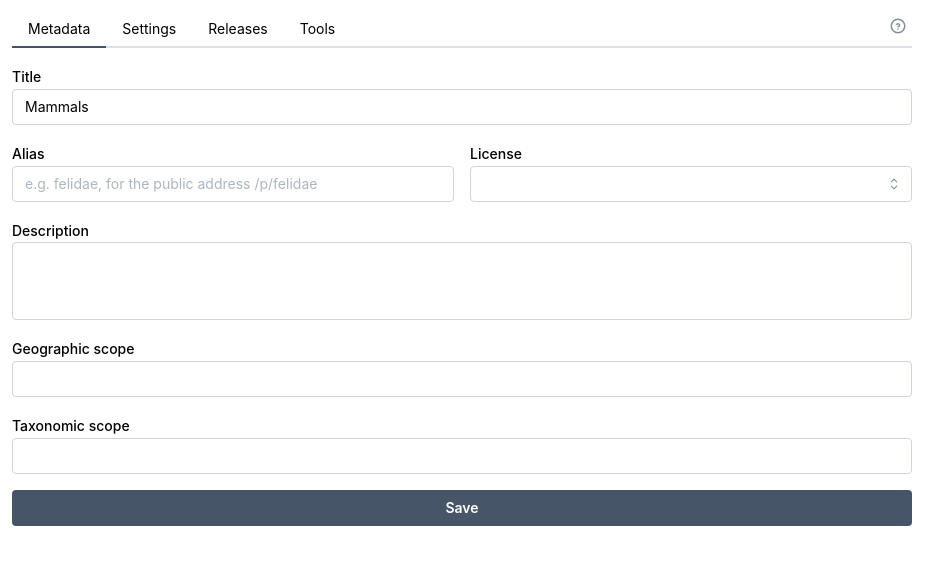
Test: a DONE latest run renders its summary on mount without the user clicking
Expected: the field labelled "Title" holds "Mammals", [12,89,912,125]
Click the tab "Tools" at (317, 30), box [284,12,351,48]
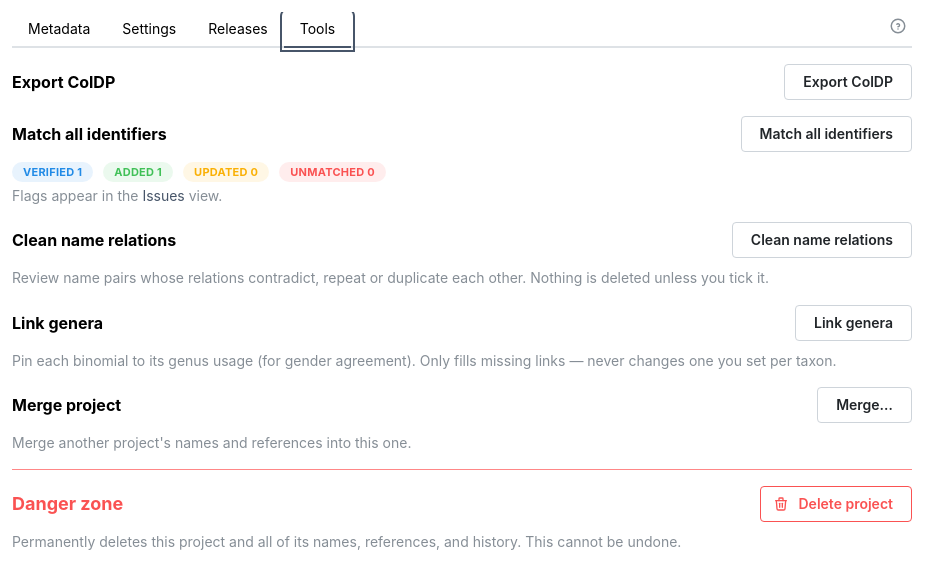
Expected: the text "added 1" is shown, [114,163,162,181]
Expected: the text "verified 1" is shown, [23,163,82,181]
Expected: the button "Match all identifiers" is enabled, [740,116,912,152]
